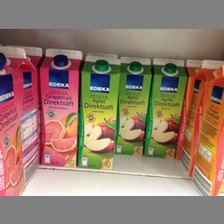juice: (78, 55, 122, 170), (39, 48, 81, 166), (145, 58, 188, 158), (116, 57, 153, 156)
